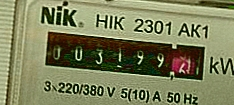0: (49, 42, 62, 61), (72, 43, 83, 62)
1: (114, 43, 123, 62)
3: (93, 46, 102, 65)
6: (176, 60, 186, 76)
9: (154, 51, 164, 69), (134, 47, 143, 65)
screen: (38, 26, 211, 88)
